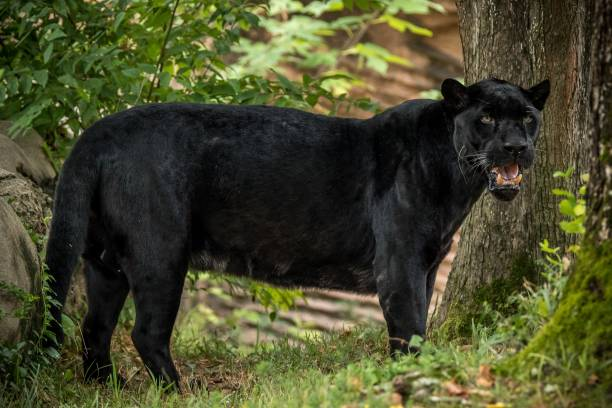panther: (435, 71, 552, 209)
